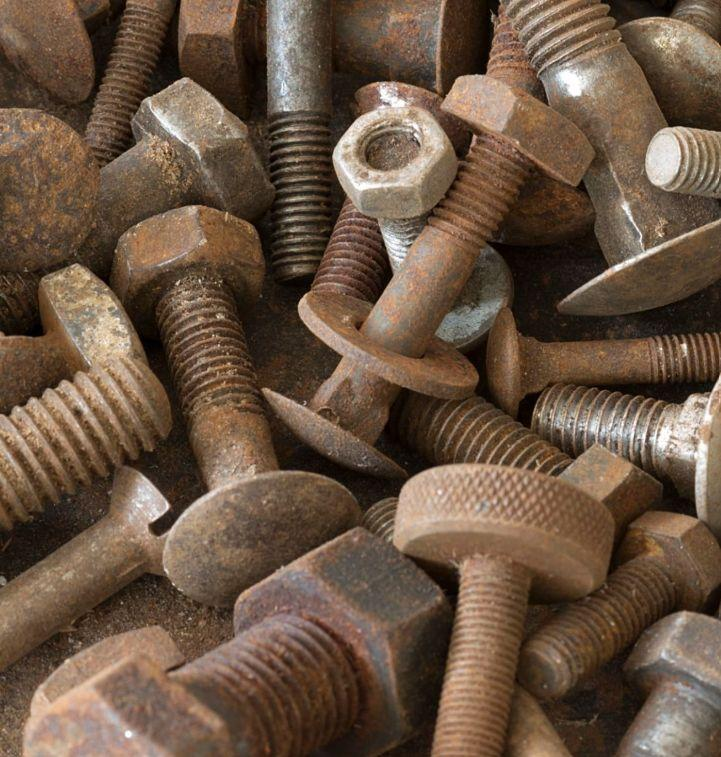metal: (8, 462, 359, 694), (396, 462, 617, 757), (328, 88, 522, 352), (279, 247, 506, 466), (111, 210, 280, 494), (4, 471, 175, 686), (525, 508, 721, 690), (90, 82, 273, 272), (3, 261, 161, 439), (488, 311, 717, 422), (1, 108, 105, 335), (262, 4, 337, 280), (639, 128, 720, 299), (1, 2, 100, 125), (179, 3, 264, 116), (625, 512, 720, 607), (693, 358, 720, 545)
